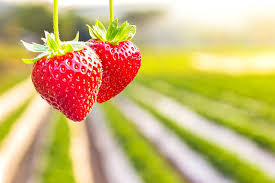ripe: (65, 17, 150, 113), (26, 36, 104, 127)
